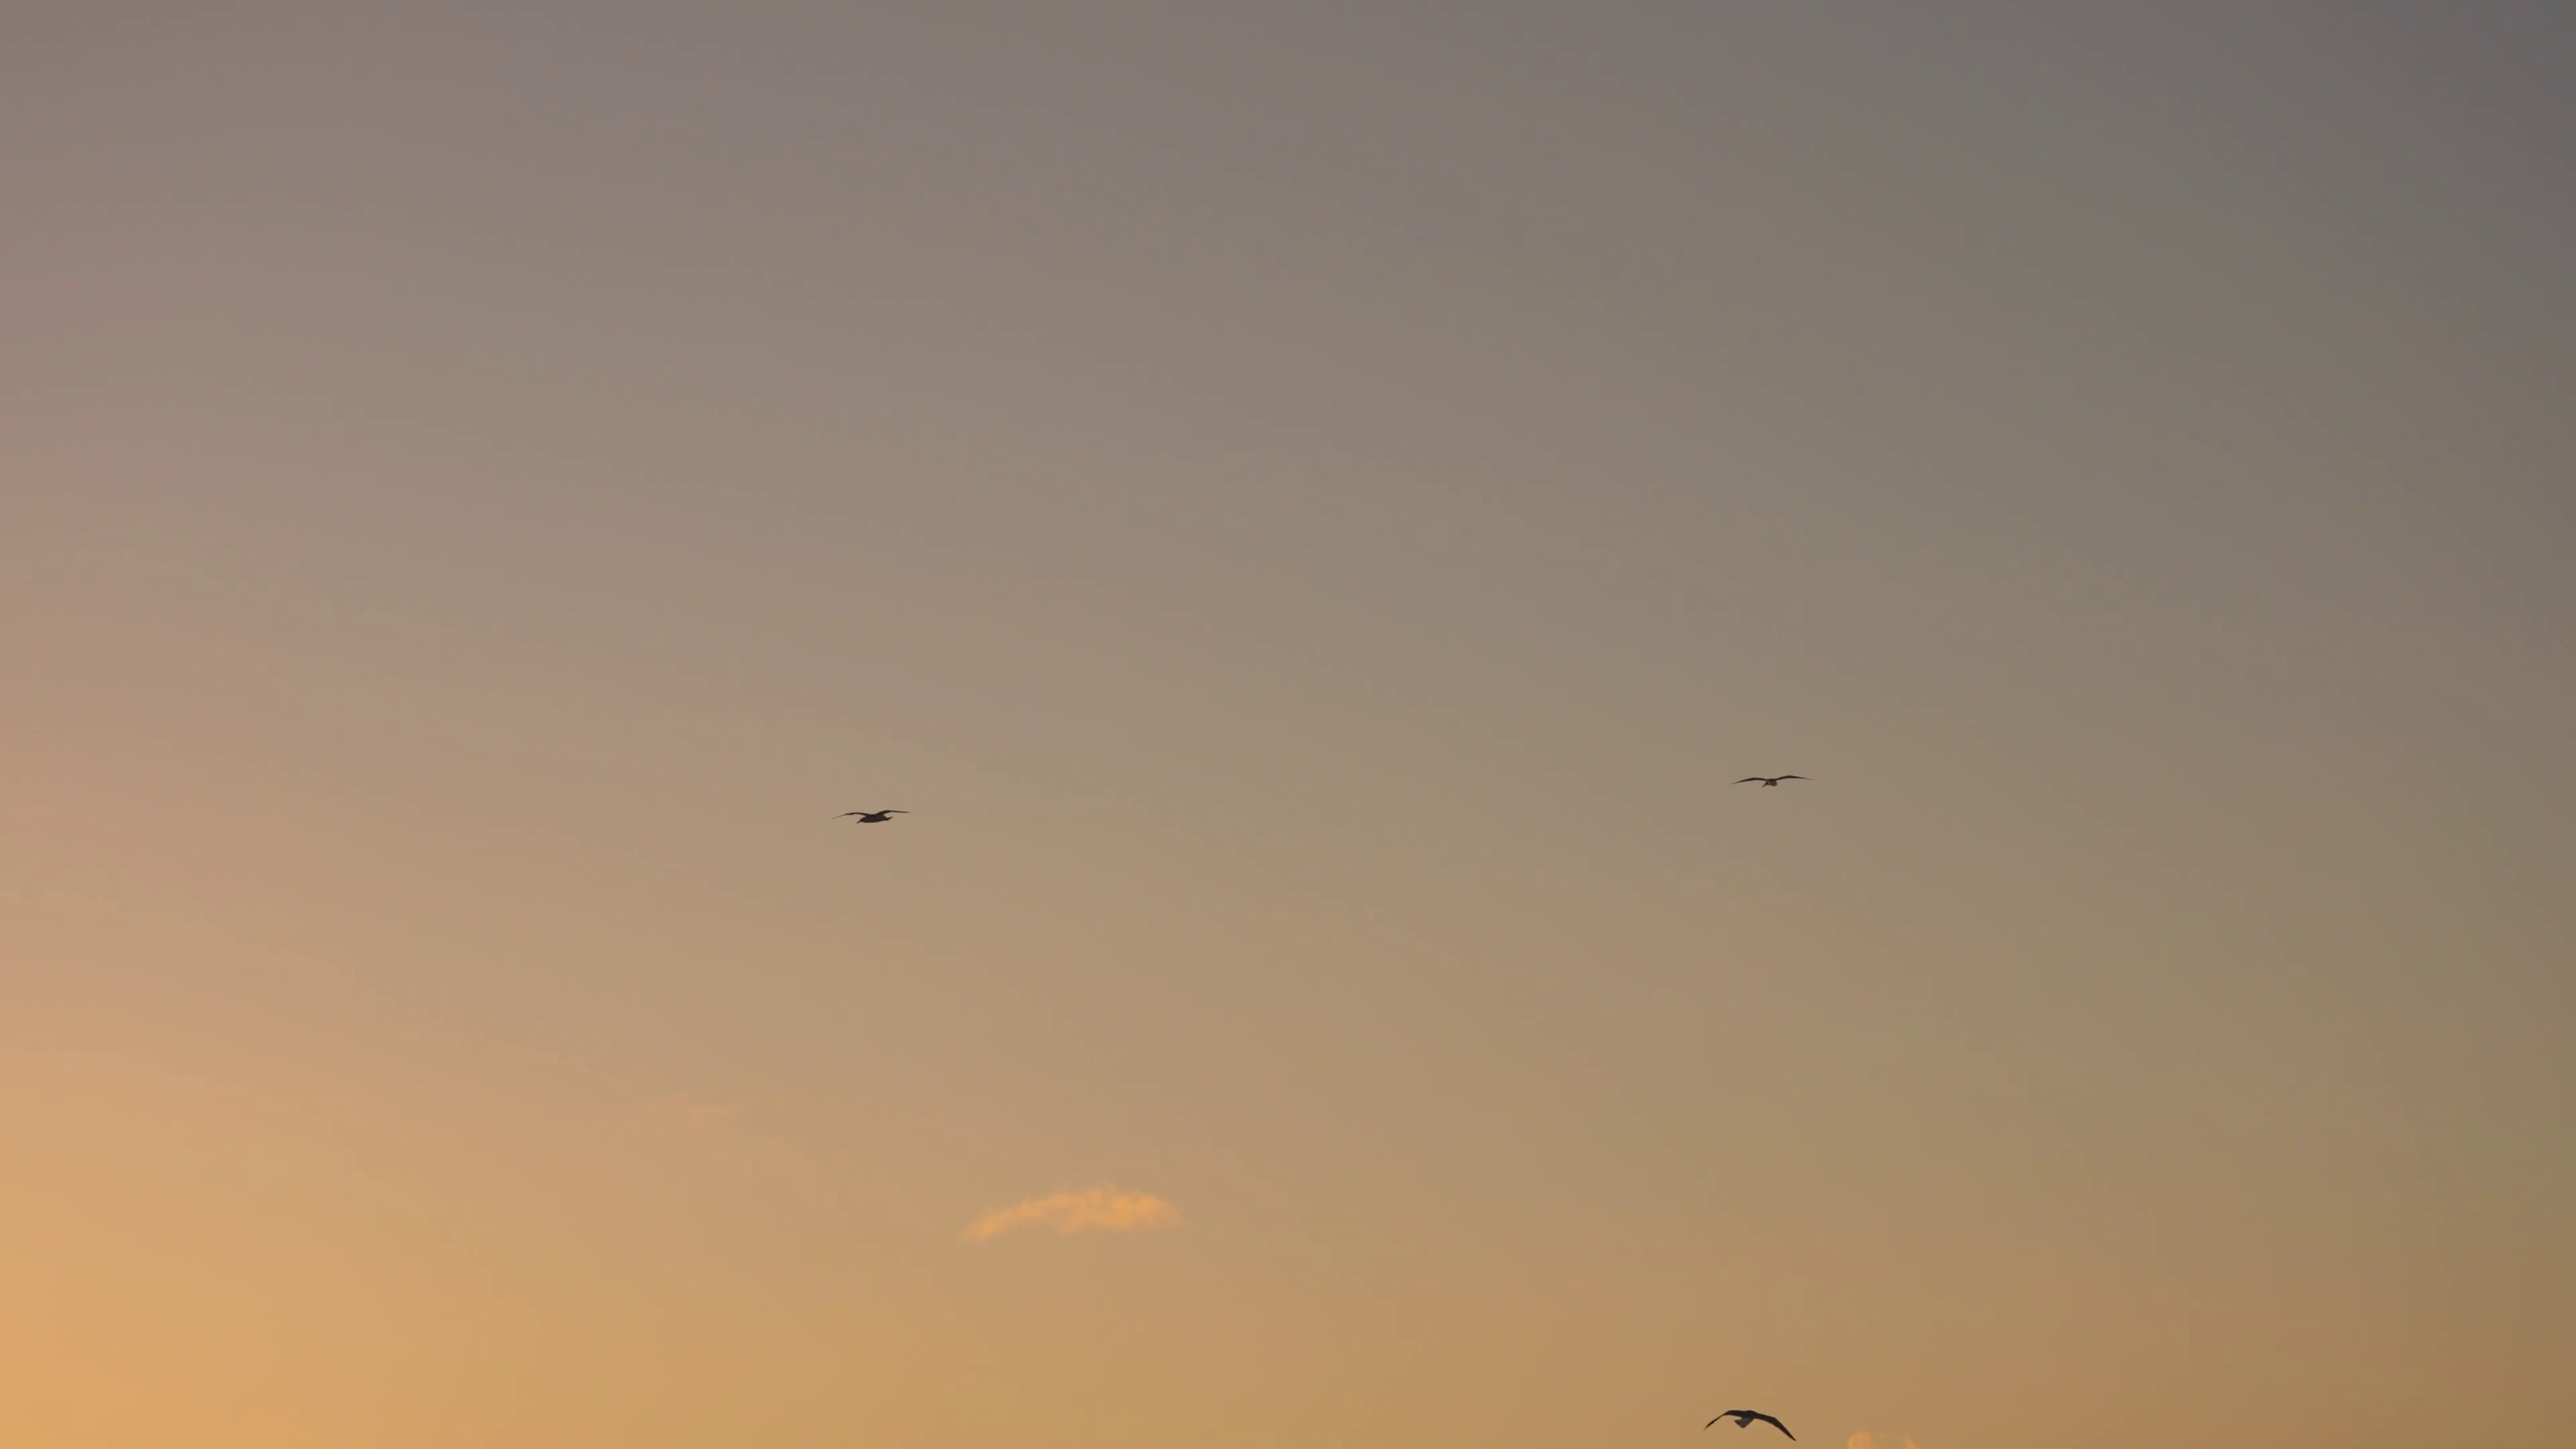bird: (1707, 1408, 1801, 1438), (837, 805, 906, 828), (1737, 771, 1806, 787)
